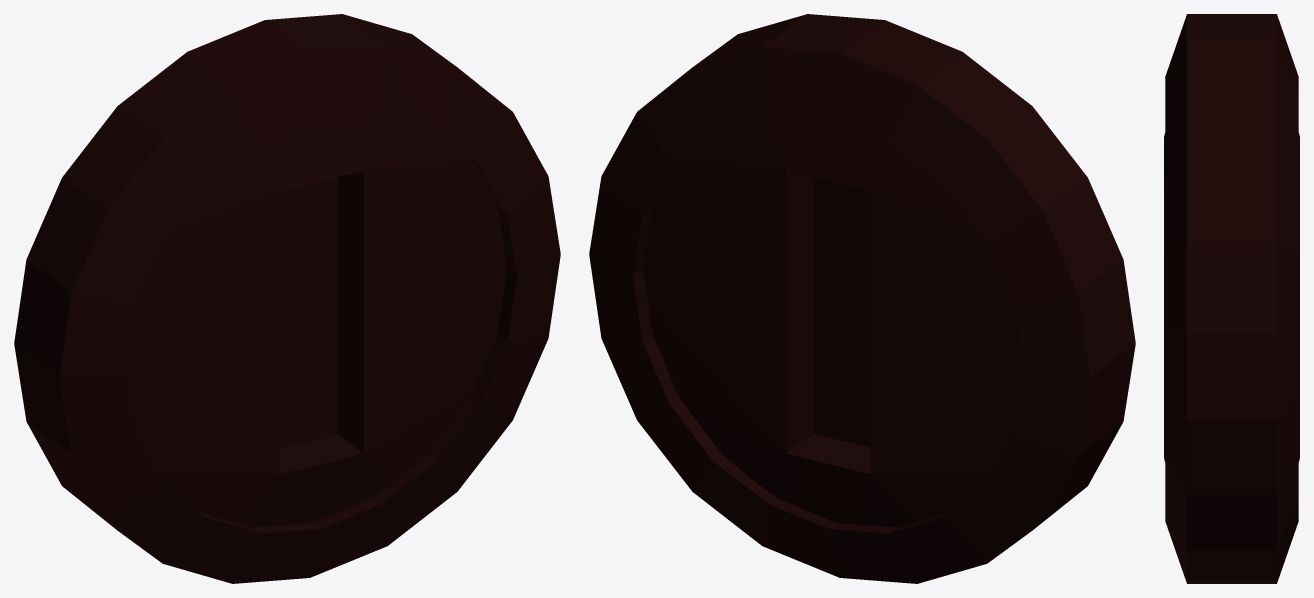
File: Coin_bake.dae
3 renders of one model, left to right at view 1: azimuth 30°, elevation 25°; view 2: azimuth 150°, elevation 25°; view 3: azimuth 270°, elevation 25°, orthographic.
Parts seen in each view (by area): view 1: m0; view 2: m0; view 3: m0.
Boxes of the visible parts, <box> form: m0: <box>14,14,560,583</box>; m0: <box>589,14,1135,583</box>; m0: <box>1164,14,1299,583</box>.
Size of the model in its own units: 99.2 by 99.2 by 23.48.
2 materials, 2 textured.
